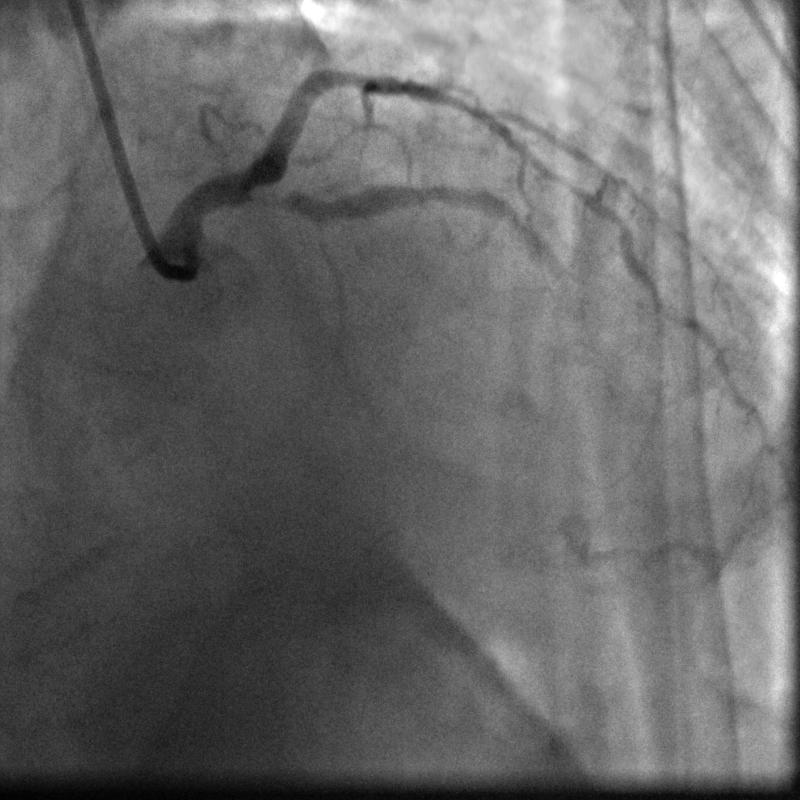Stenosis: (262, 171, 293, 216)
